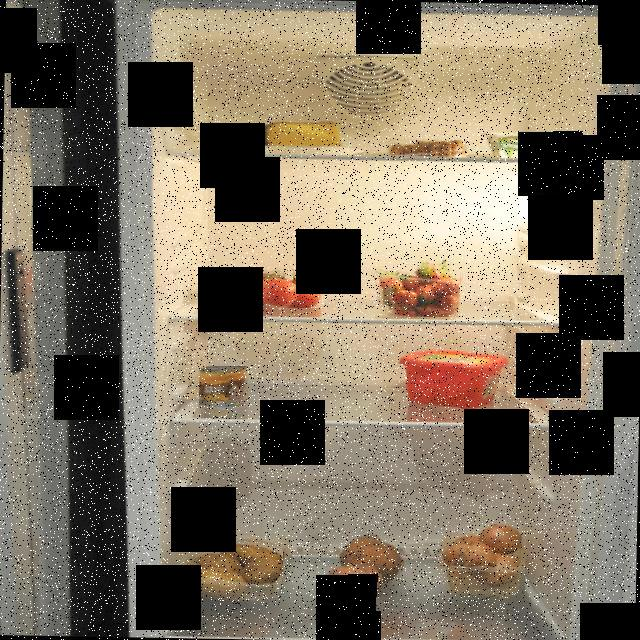butter: (395, 347, 511, 409)
cheese: (251, 116, 343, 152)
corn: (200, 366, 250, 407)
goat_cheese: (479, 128, 553, 158)
onion: (436, 524, 526, 600)
potato: (180, 535, 284, 598)
shrimp: (386, 140, 464, 158)
strawberries: (368, 260, 460, 317)
sweet_potato: (317, 530, 405, 612)
tomato: (228, 266, 326, 308)
